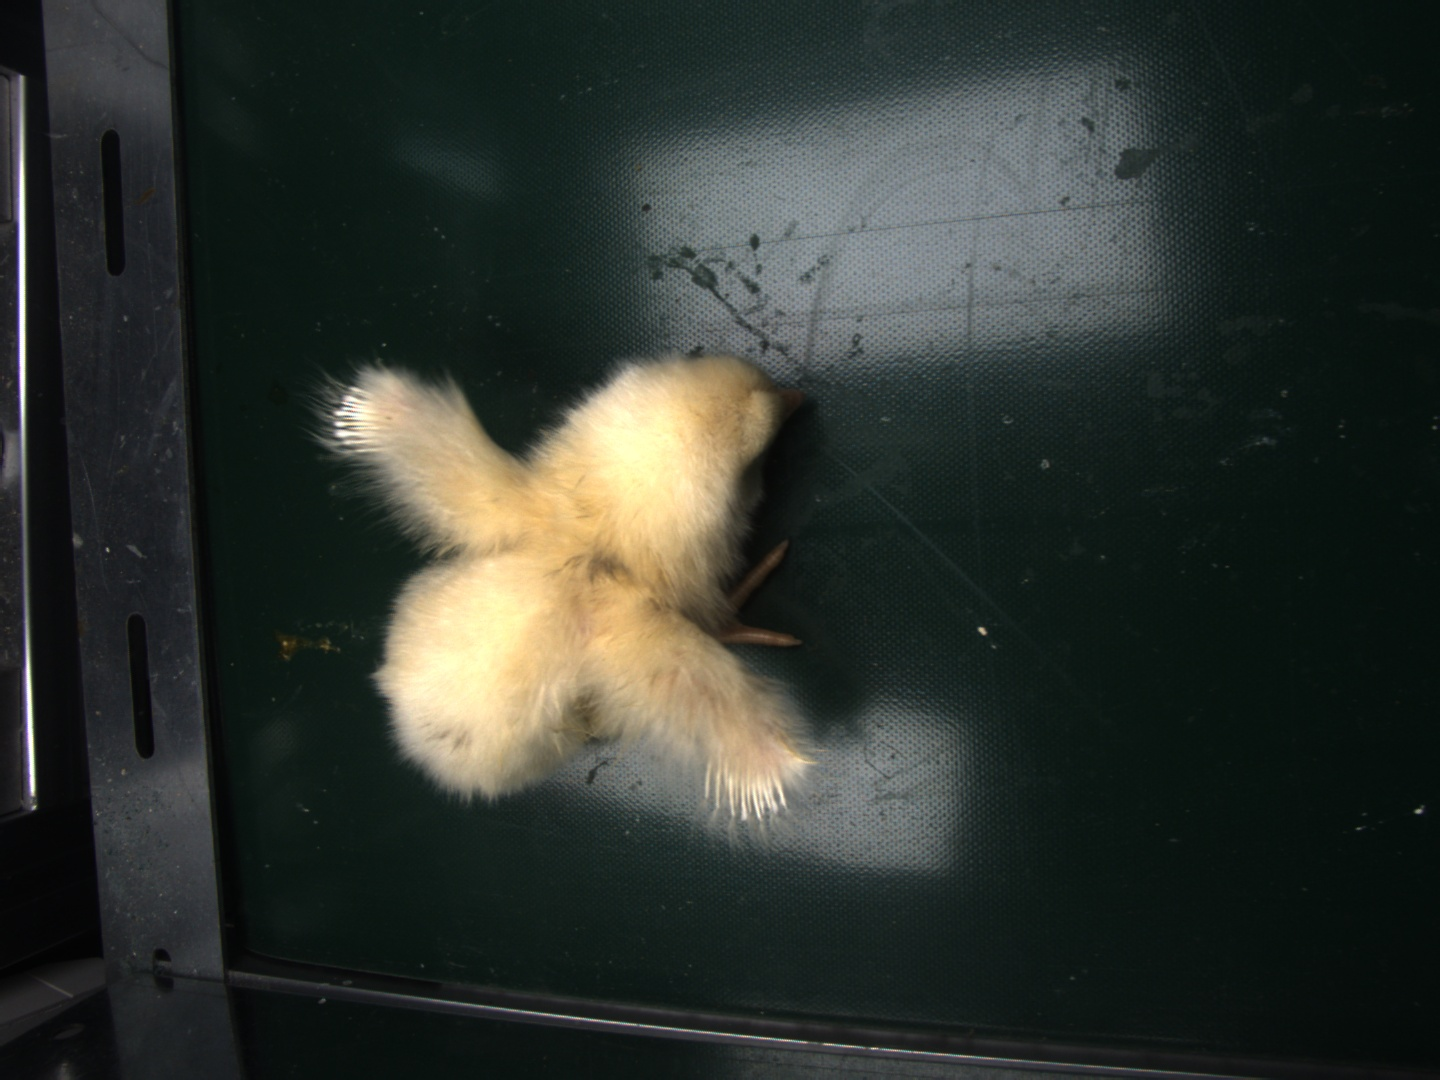male: (698, 758, 796, 822), (333, 383, 390, 456)
